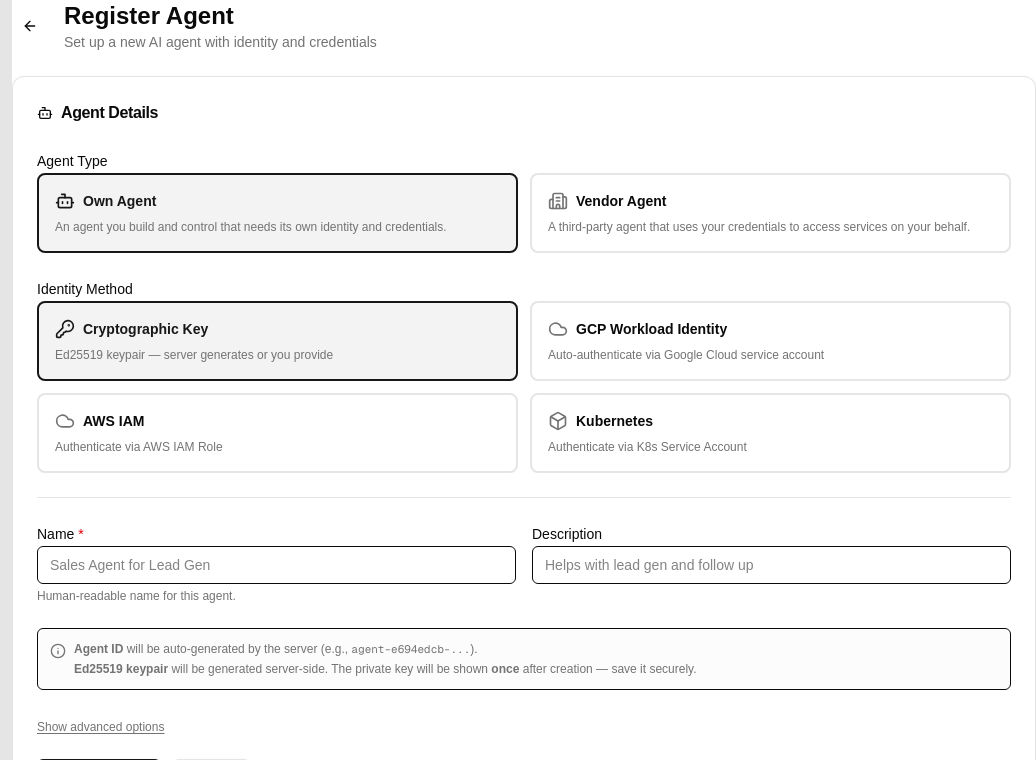
Test: AgentCreatePage › shows generic error for non-API failures
Step 1. Type "Fail Agent" into the field labelled "Name *" → [276, 565], box [37,546,516,584]
(page scrolled)
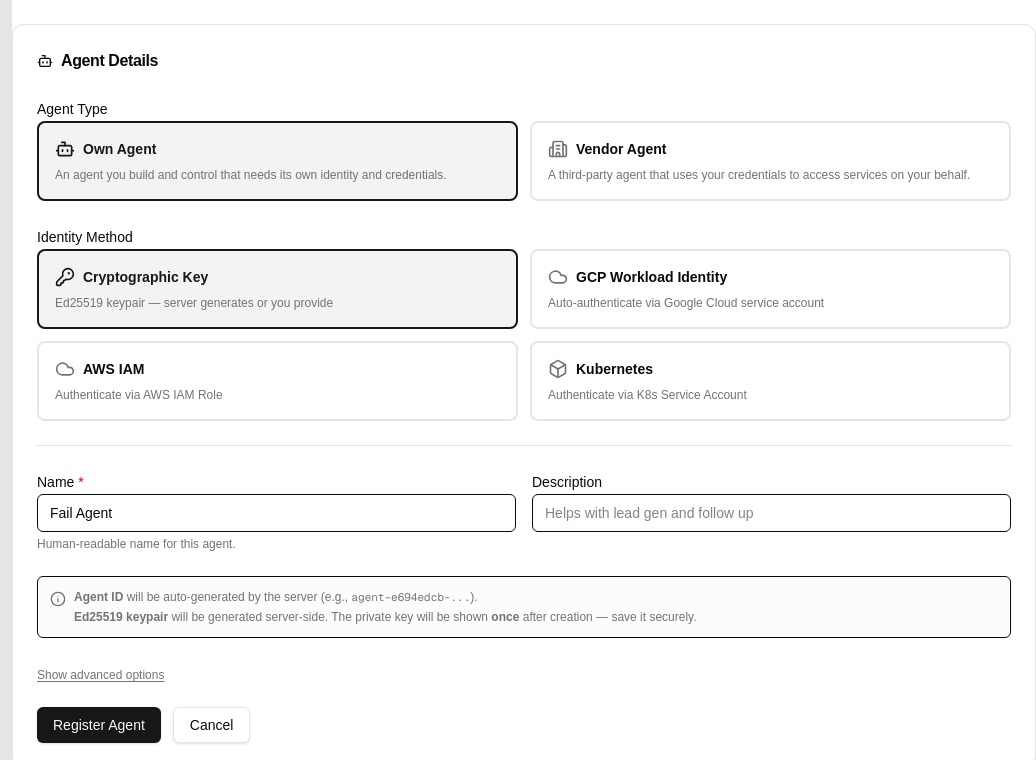
Step 2. Click the button "Register Agent" → [99, 725], box [37,707,161,743]
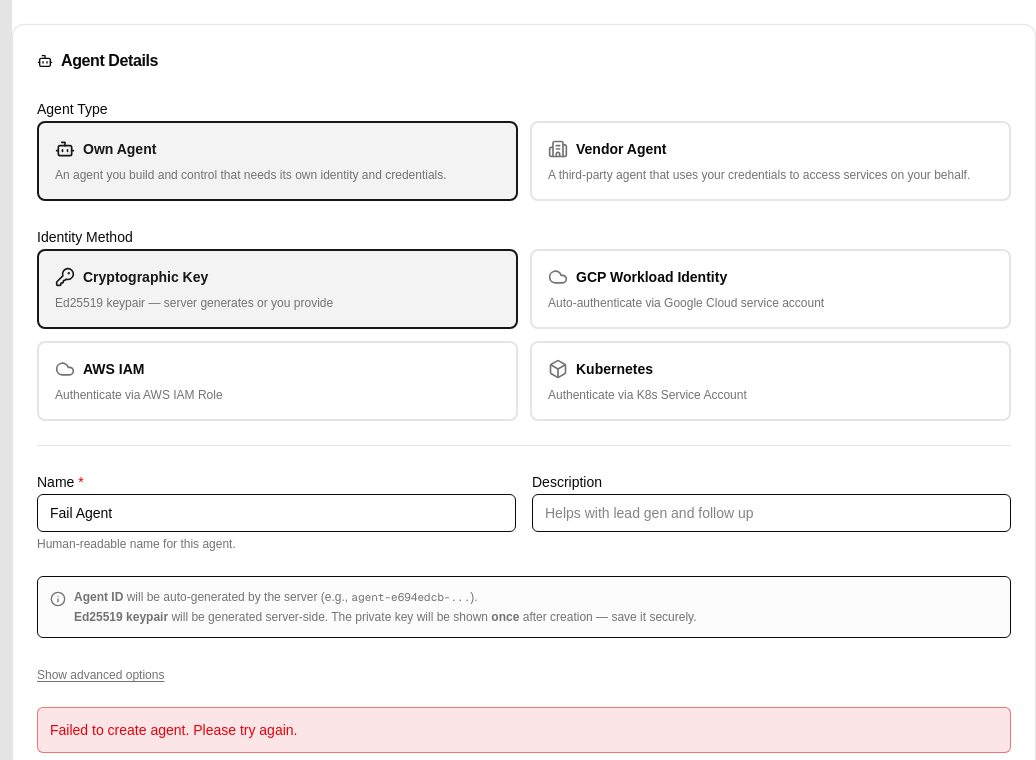
Now the text "Failed to create agent. Please try again." is shown, box [50,722,298,738]
